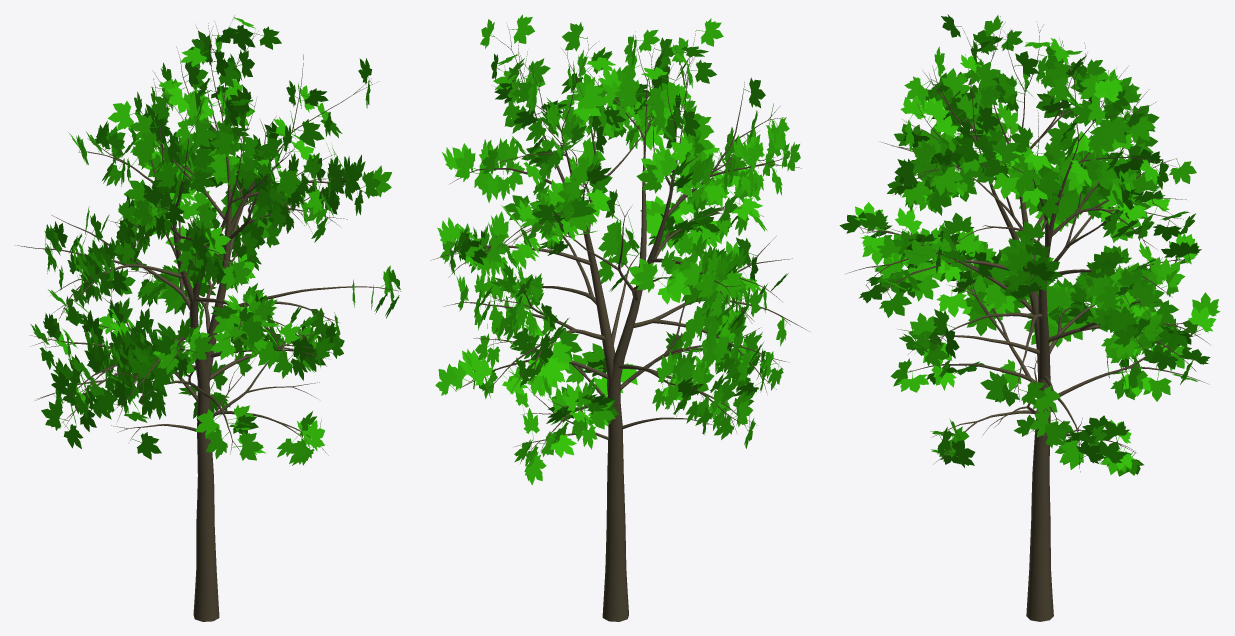
Rendered from tree3new2Green.fbx.
The picture shows the model from 3 angles, left to right: view 1: azimuth 30°, elevation 25°; view 2: azimuth 150°, elevation 25°; view 3: azimuth 270°, elevation 25°; orthographic projection. The views are drawn at different scales.
Visible parts, largest first — view 1: tree.001; view 2: tree.001; view 3: tree.001, tree.001|Plane|Dupli|644.
Part boxes in pixels (x1,y1,x2,y2): tree.001: (15, 15, 401, 621); tree.001: (430, 25, 809, 621); tree.001: (846, 16, 1209, 621); tree.001|Plane|Dupli|644: (931, 164, 963, 195).
Size of the model in its own units: 1001 by 1641 by 957.
